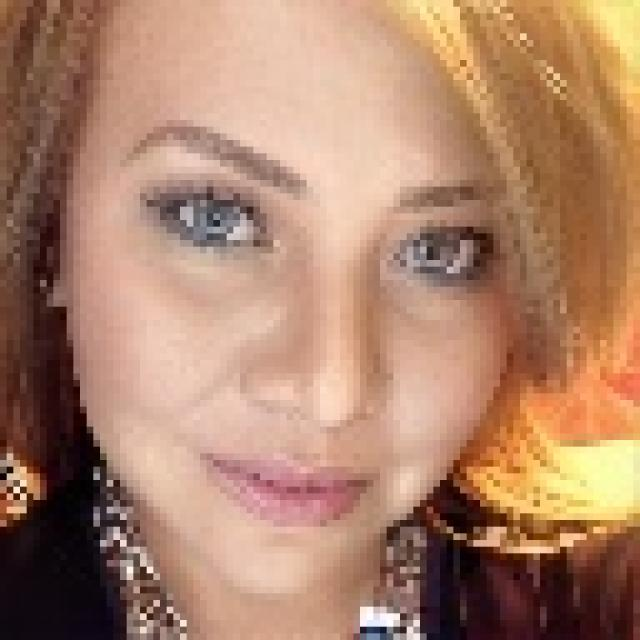sad: (37, 0, 544, 612)
